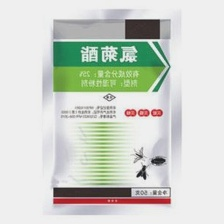insecticide: (35, 1, 186, 218)
